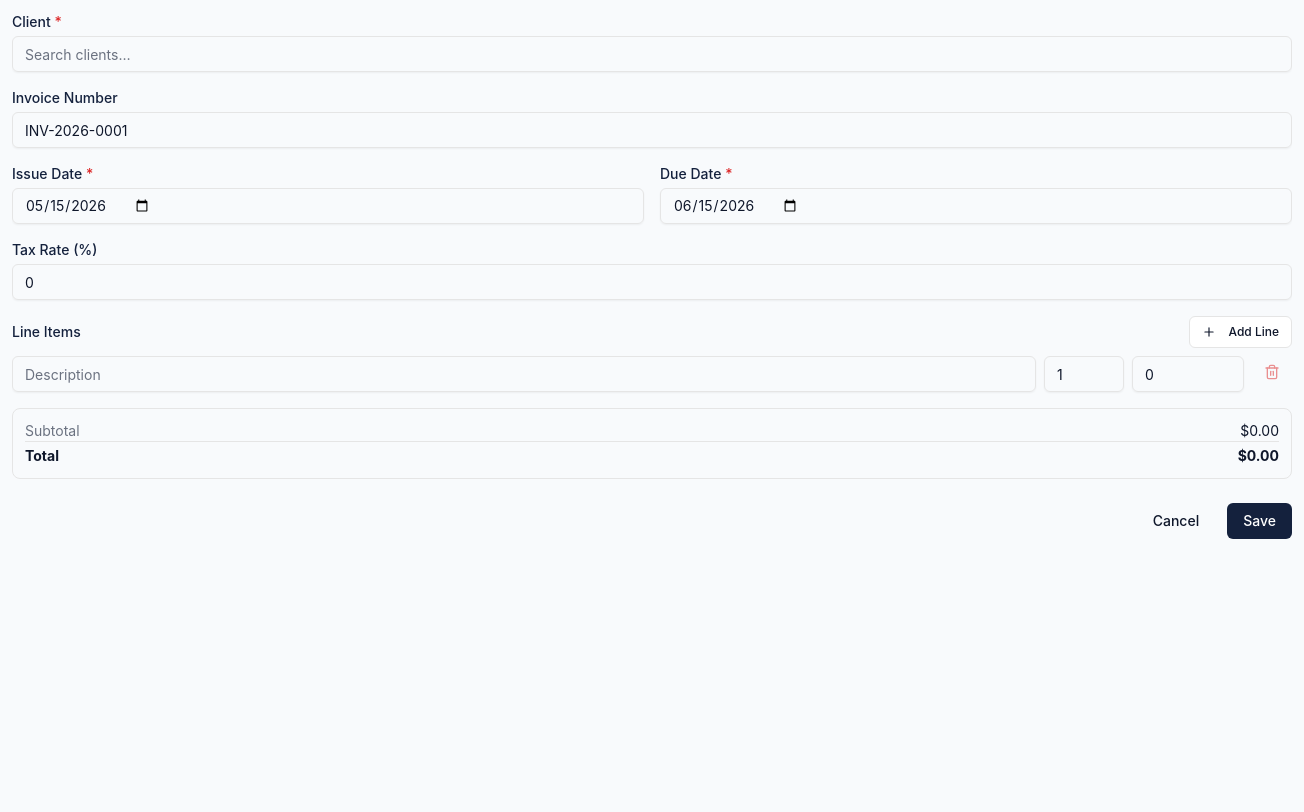
Test: InvoiceForm › shows lines error when lines array is empty
What coordinates should you click on to do the following:
click the button with test id "btn-submit"
I would click on:
 (1260, 521)
Its box is x1=1227 y1=503 x2=1292 y2=539.
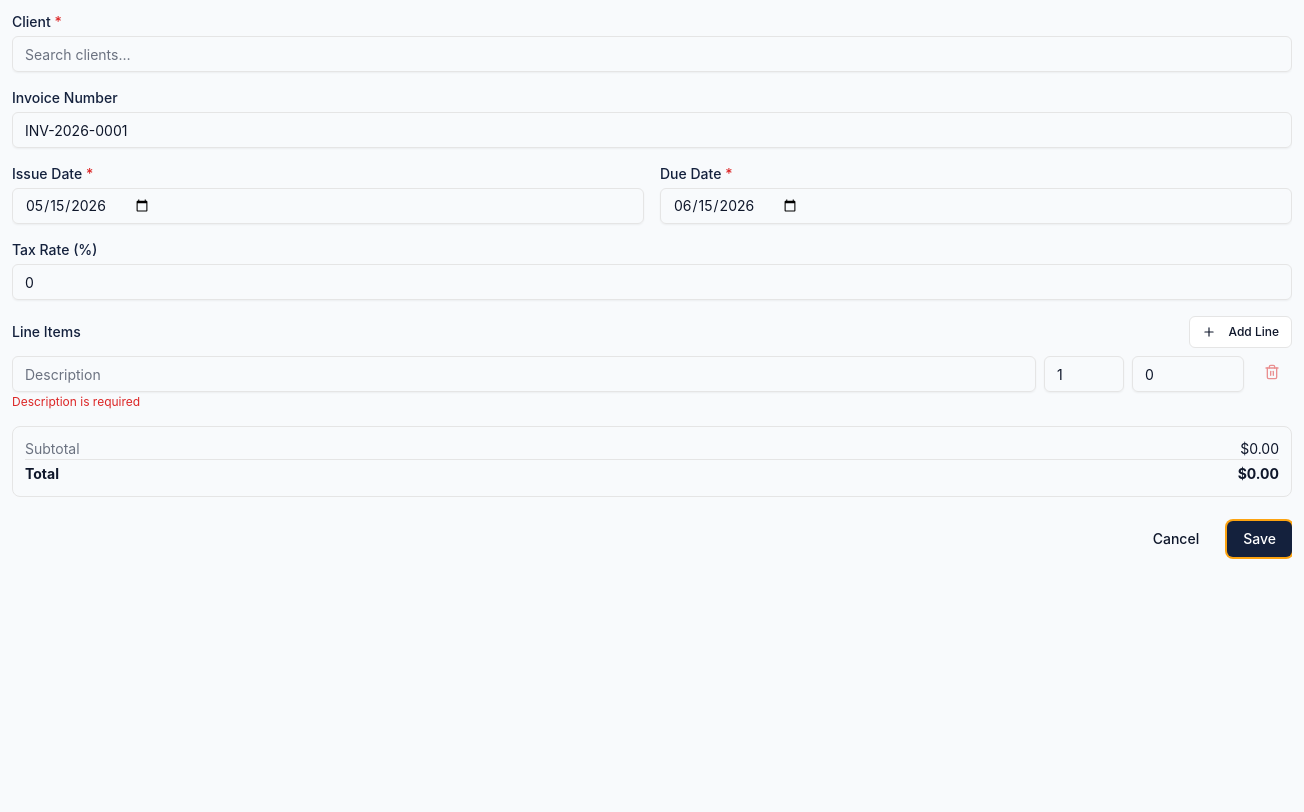
Now the message "Description is required" is shown, box x1=12 y1=394 x2=140 y2=409
